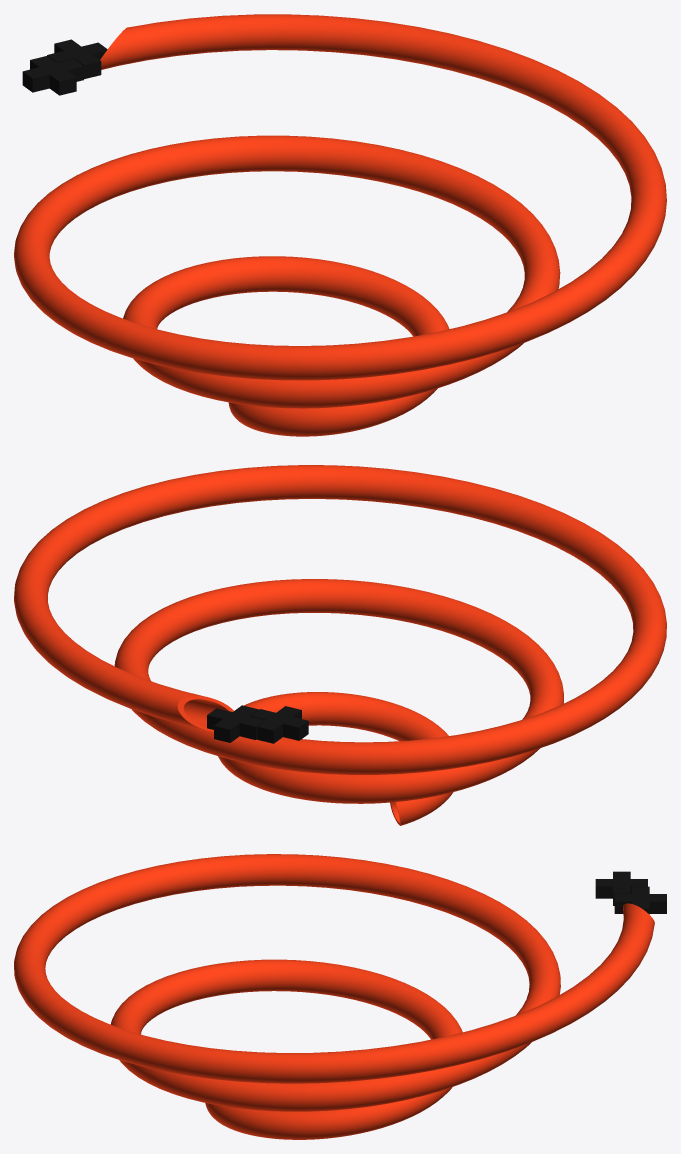
Rendered from TransparentTube.FBX.
The picture shows the model from 3 angles, top to bottom: view 1: azimuth 30°, elevation 25°; view 2: azimuth 150°, elevation 25°; view 3: azimuth 270°, elevation 25°; orthographic projection. The views are drawn at different scales.
Visible parts, largest first — view 1: Tube001, Box002, Box003; view 2: Tube001, Box002, Box003; view 3: Tube001, Box003, Box002.
Boxes of the visible parts, x1,y1,x2,y2 form: Tube001: (14,14,666,436); Box002: (22,56,83,95); Box003: (47,39,107,79); Tube001: (14,465,666,825); Box002: (250,706,308,743); Box003: (207,705,265,742); Tube001: (14,854,654,1139); Box003: (614,886,666,914); Box002: (595,871,647,905).
Bounding box in the file's own units: 416 × 170 × 457.
